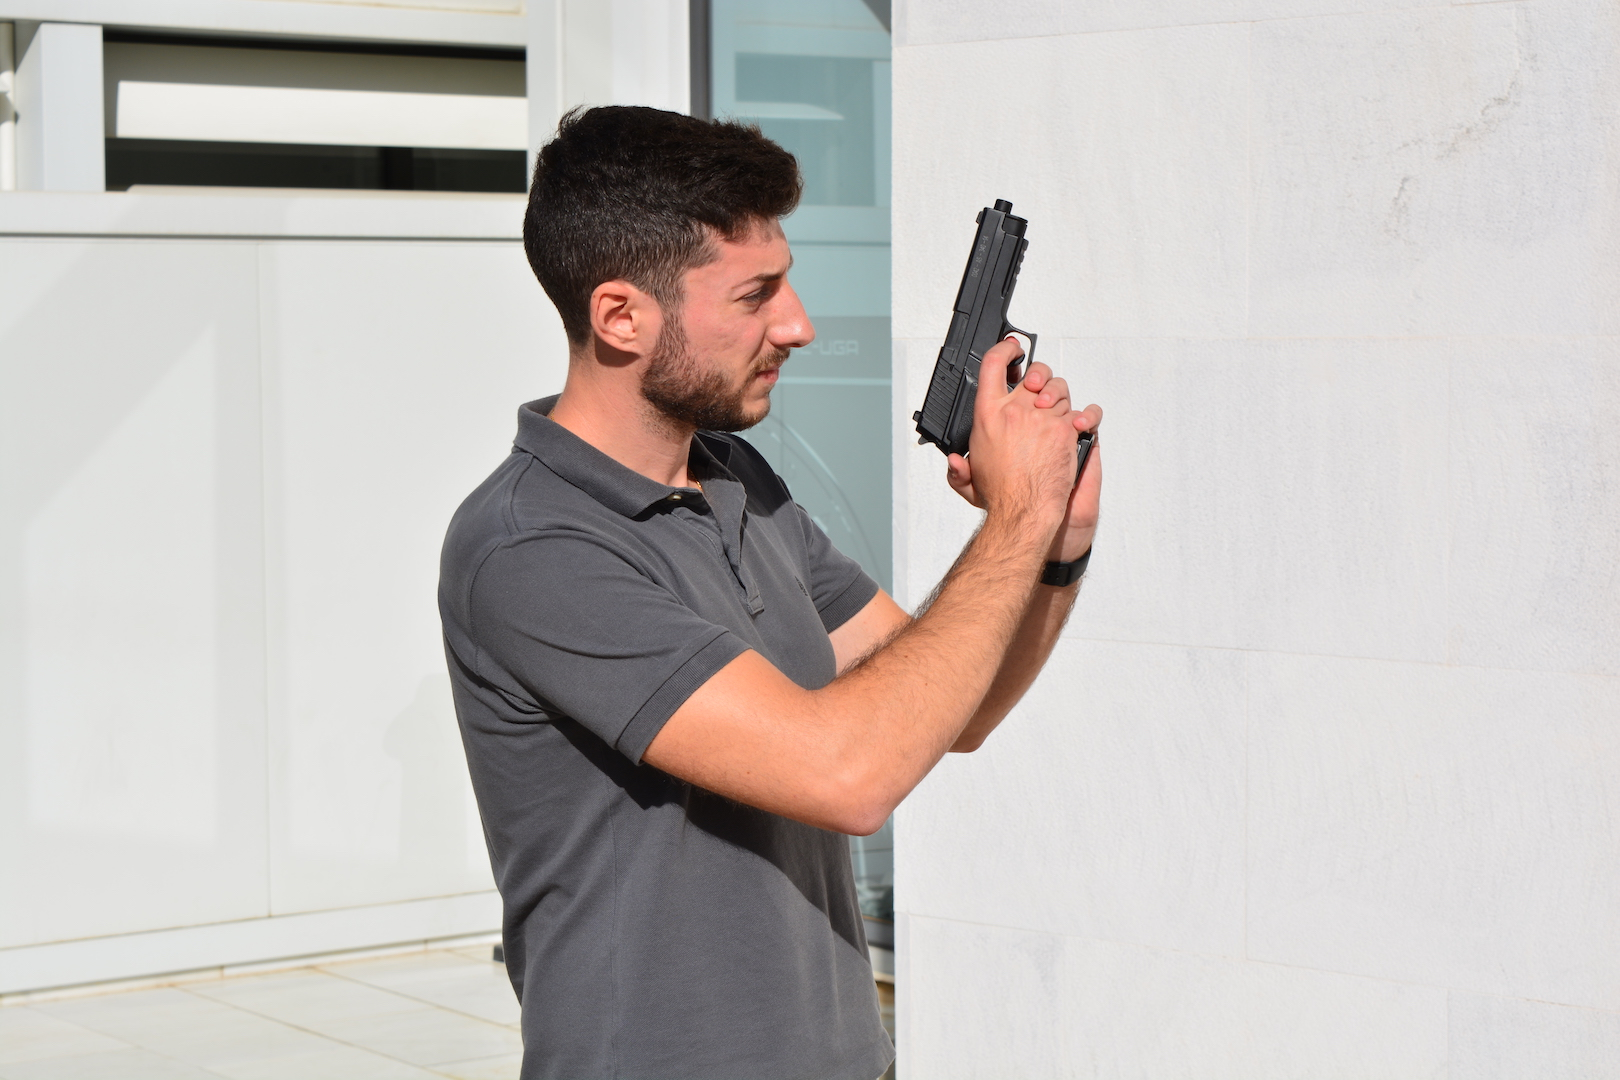pistol: (912, 196, 1097, 491)
